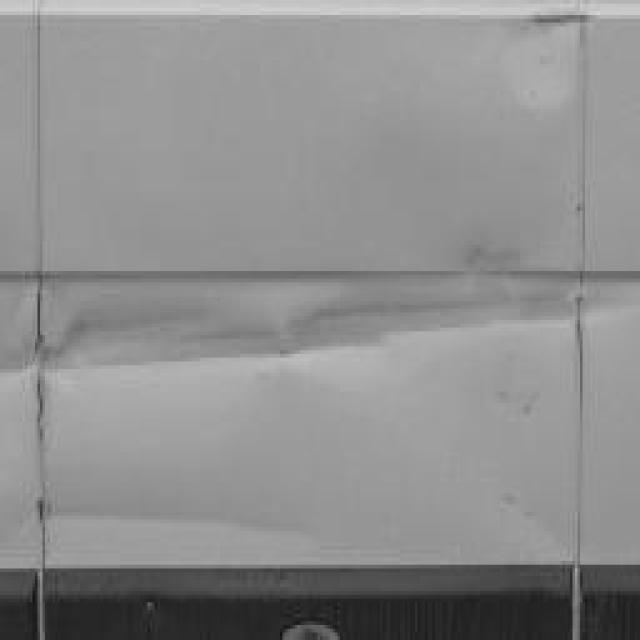Door: (0, 105, 640, 614)
